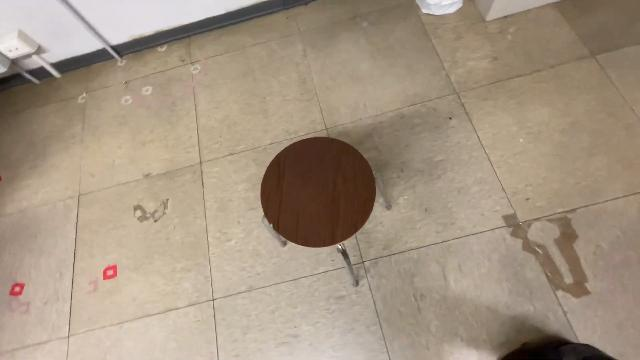Stool: (258, 134, 394, 292)
